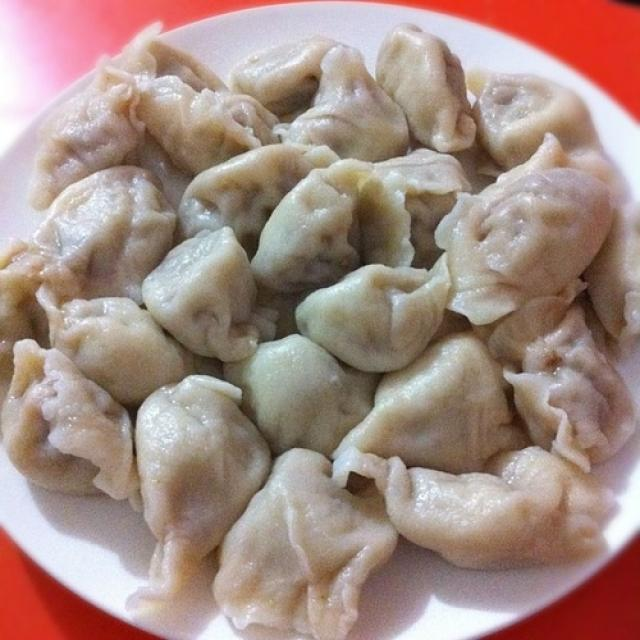带馅早点: (8, 18, 620, 604)
